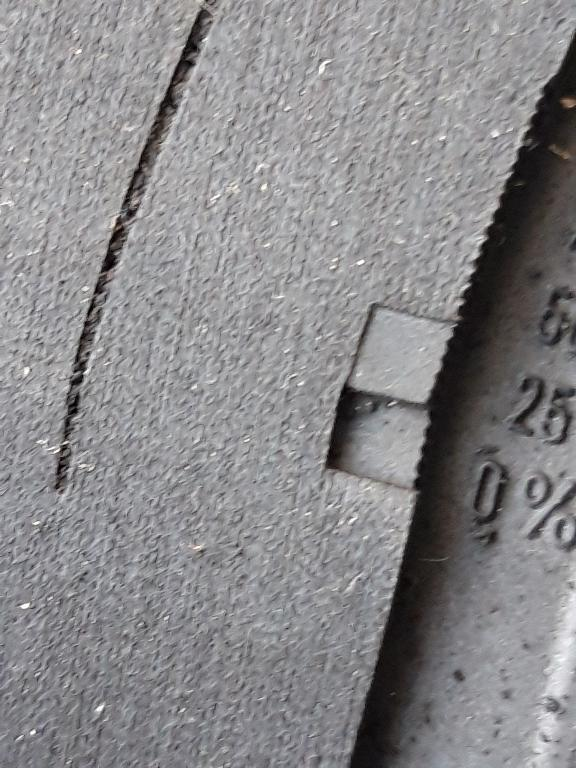temoin:25: (311, 290, 476, 509)
